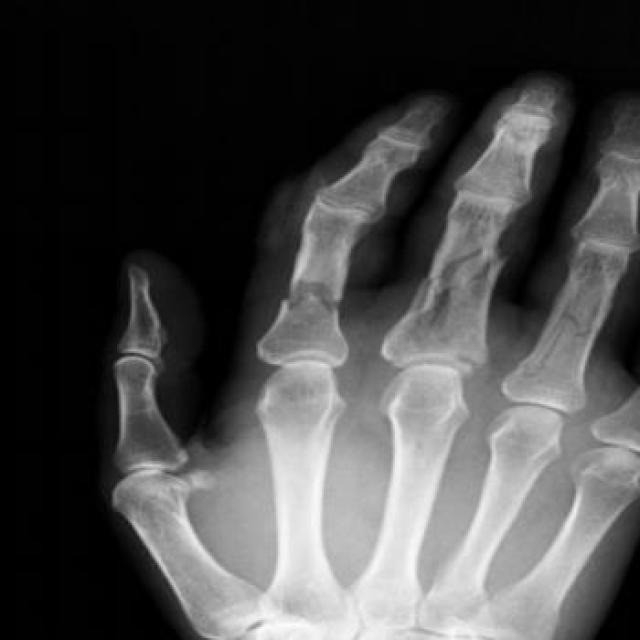Fracture: (410, 242, 521, 316), (263, 267, 364, 320), (528, 294, 616, 348)
